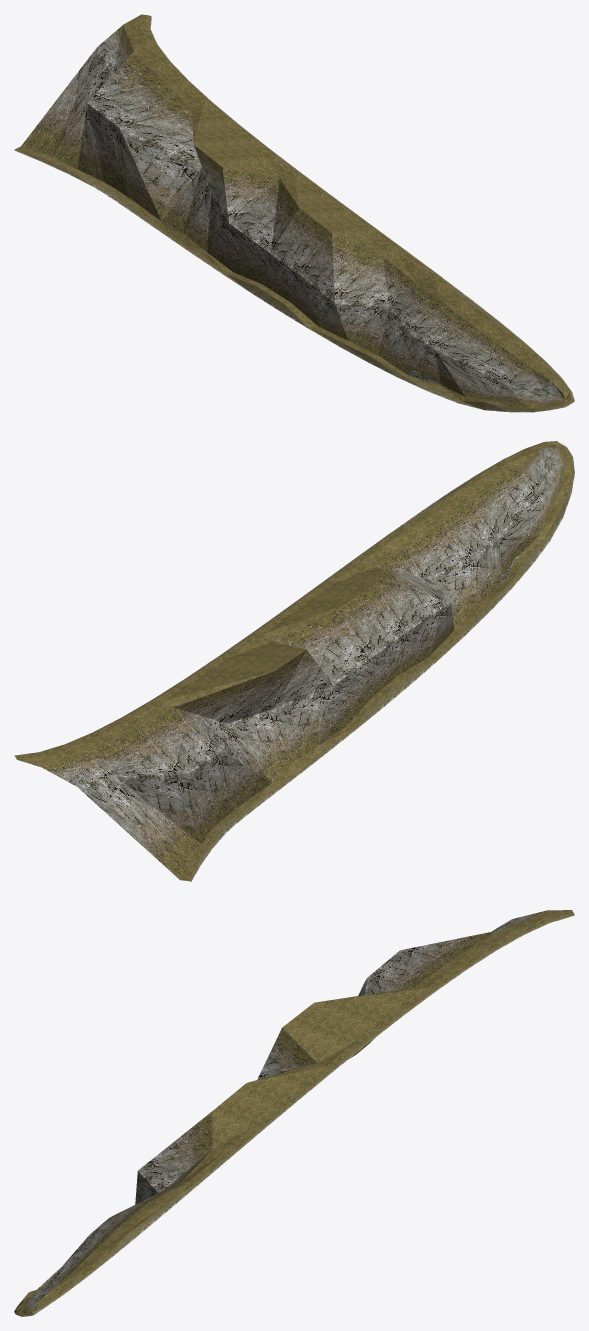
The model's file is lodcuntw21.obj.
3 views of the same model, one above another, from view 1: azimuth 30°, elevation 25°; view 2: azimuth 150°, elevation 25°; view 3: azimuth 330°, elevation 25° (orthographic). The views are drawn at different scales.
Visible parts, largest first — view 1: lodcuntw21; view 2: lodcuntw21; view 3: lodcuntw21.
Part boxes in pixels (x1,y1,x2,y2): lodcuntw21: (14, 14, 574, 412); lodcuntw21: (14, 441, 574, 881); lodcuntw21: (14, 910, 574, 1316).
Size of the model in its own units: 83.27 by 48.13 by 446.
Materials: 3 (3 with a texture image).
